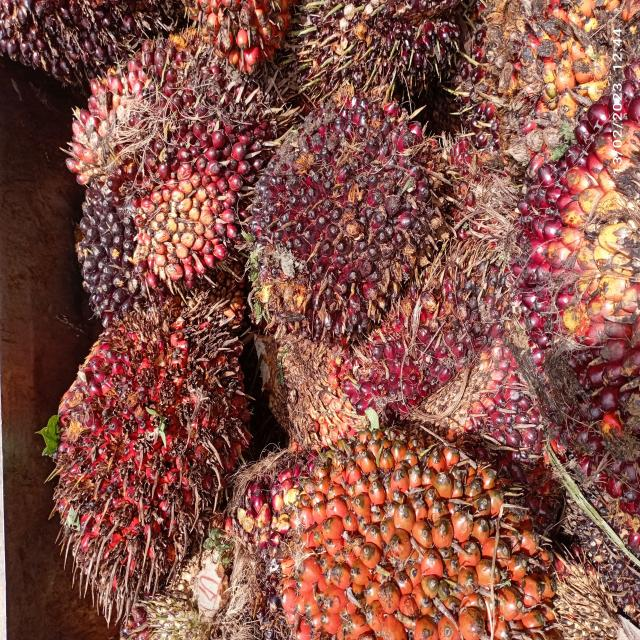fraksi 00: (38, 159, 158, 344)
fraksi 1: (488, 34, 640, 524), (231, 47, 454, 369), (57, 26, 269, 292), (335, 236, 547, 492)
fraksi 4: (17, 264, 286, 596), (247, 380, 544, 640)
